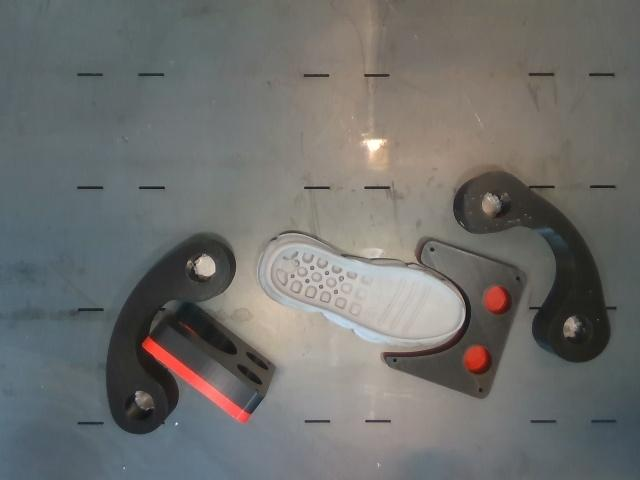shoes: (269, 244, 464, 340)
